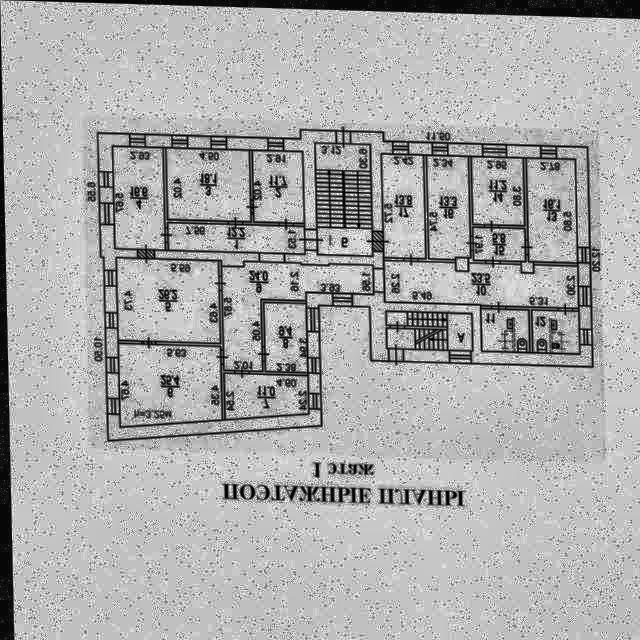room: (221, 258, 373, 370), (382, 258, 578, 304), (114, 257, 220, 342), (117, 342, 220, 426), (315, 140, 371, 255), (163, 148, 252, 220), (526, 153, 576, 260), (113, 146, 163, 250), (426, 152, 469, 257), (382, 151, 424, 256), (166, 222, 304, 252), (222, 370, 307, 418), (252, 148, 303, 222), (471, 153, 524, 223), (384, 309, 472, 348), (263, 301, 306, 371), (479, 305, 529, 349), (530, 307, 579, 350), (472, 225, 525, 258)
